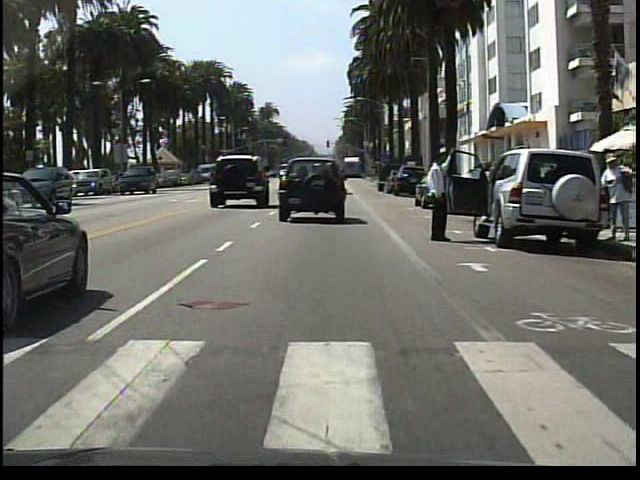person: (420, 144, 460, 253)
